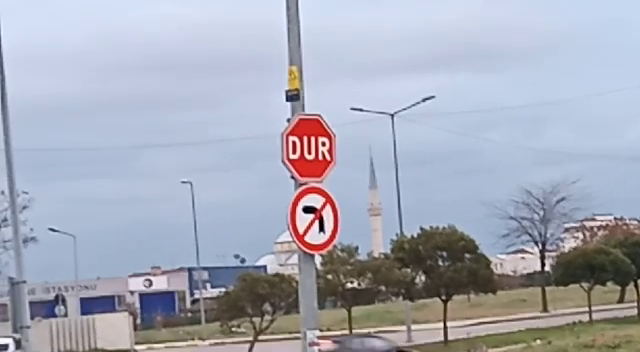no_left: (284, 182, 343, 255)
stop: (279, 110, 340, 185)
